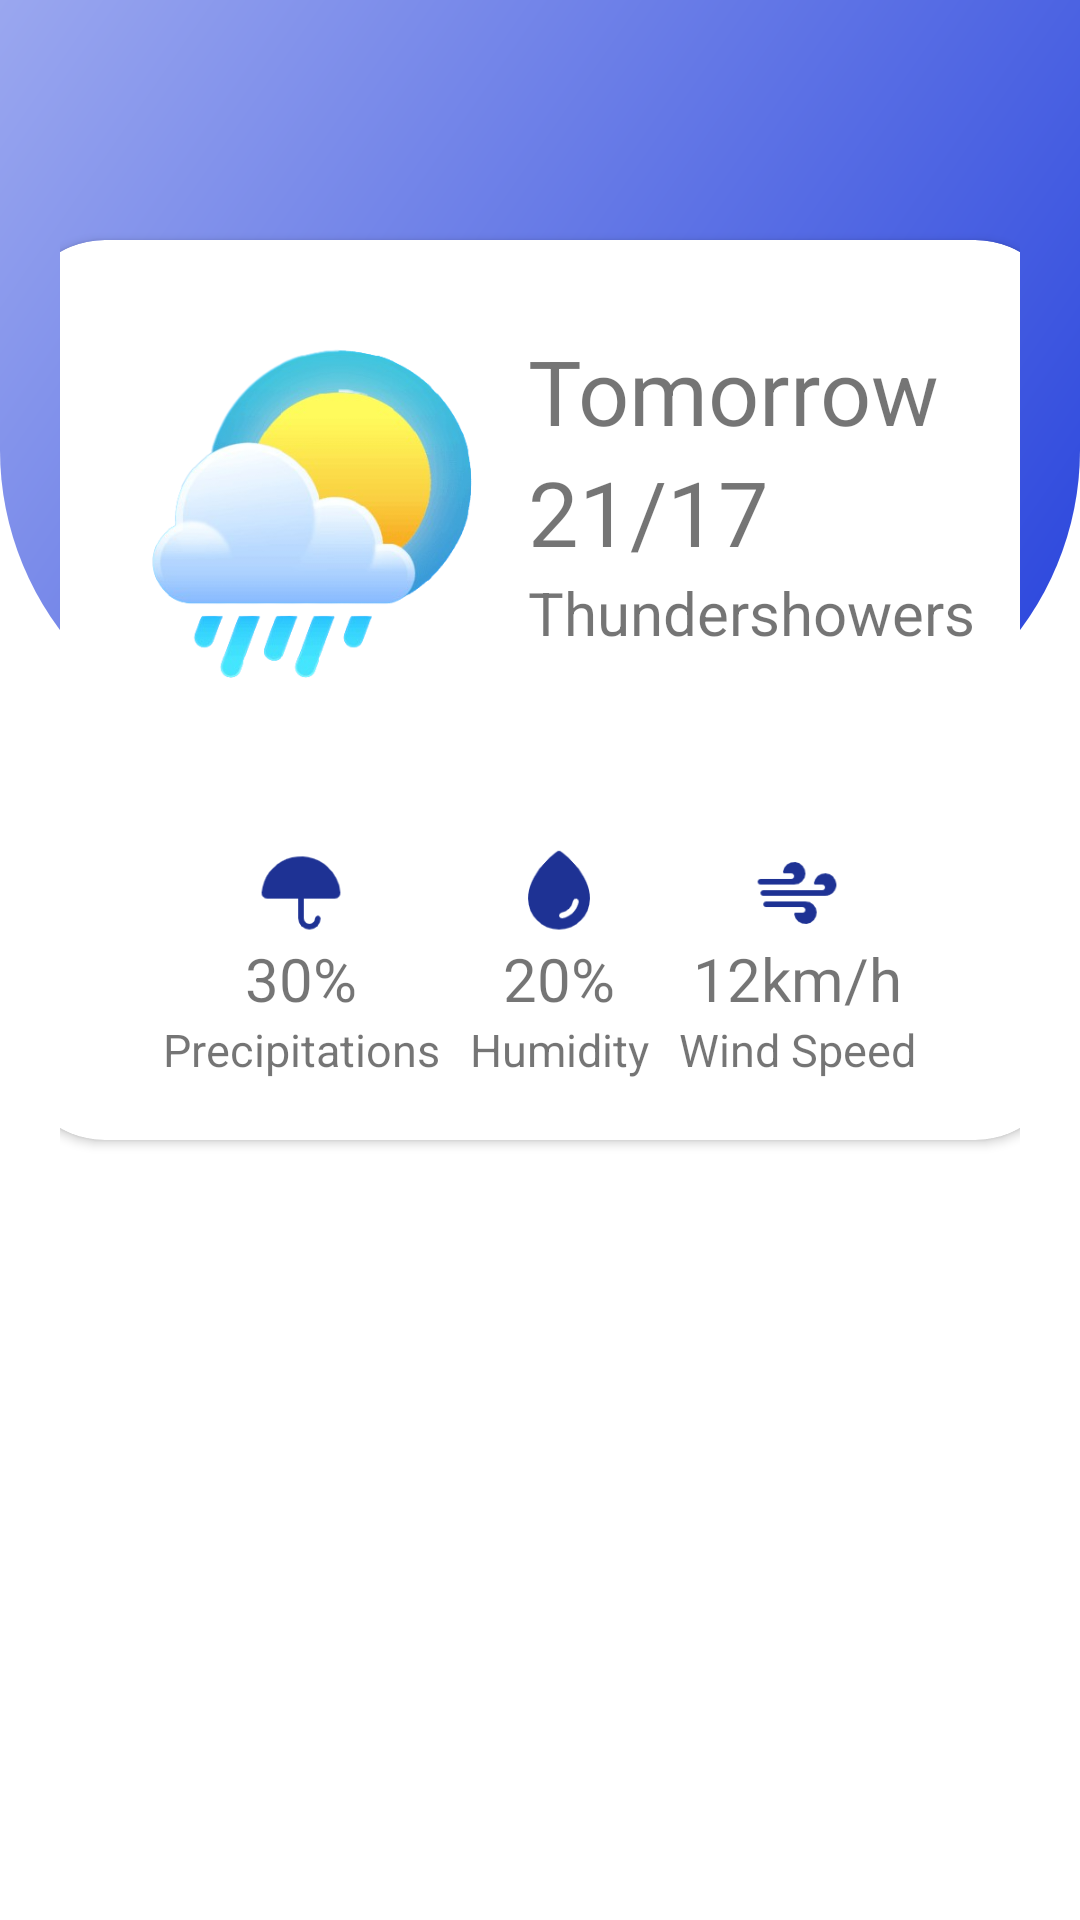

Where to tap for icons on this 1080 × 1920 app screen, as (x=x, y=y):
umbrella: (x=301, y=893)
weather: (x=312, y=514)
